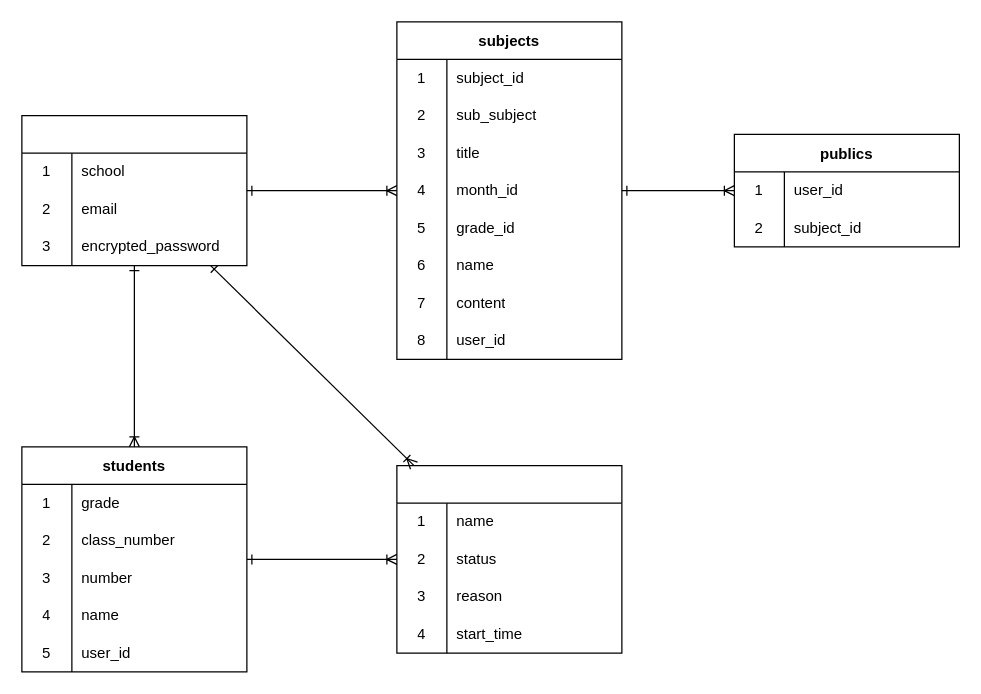
Some shapes in this 981 by 694 pixel diagram are drawn without their labels. Each missing label, with the box of its shape:
attendances: (396, 464, 622, 653)
users: (21, 114, 247, 266)
